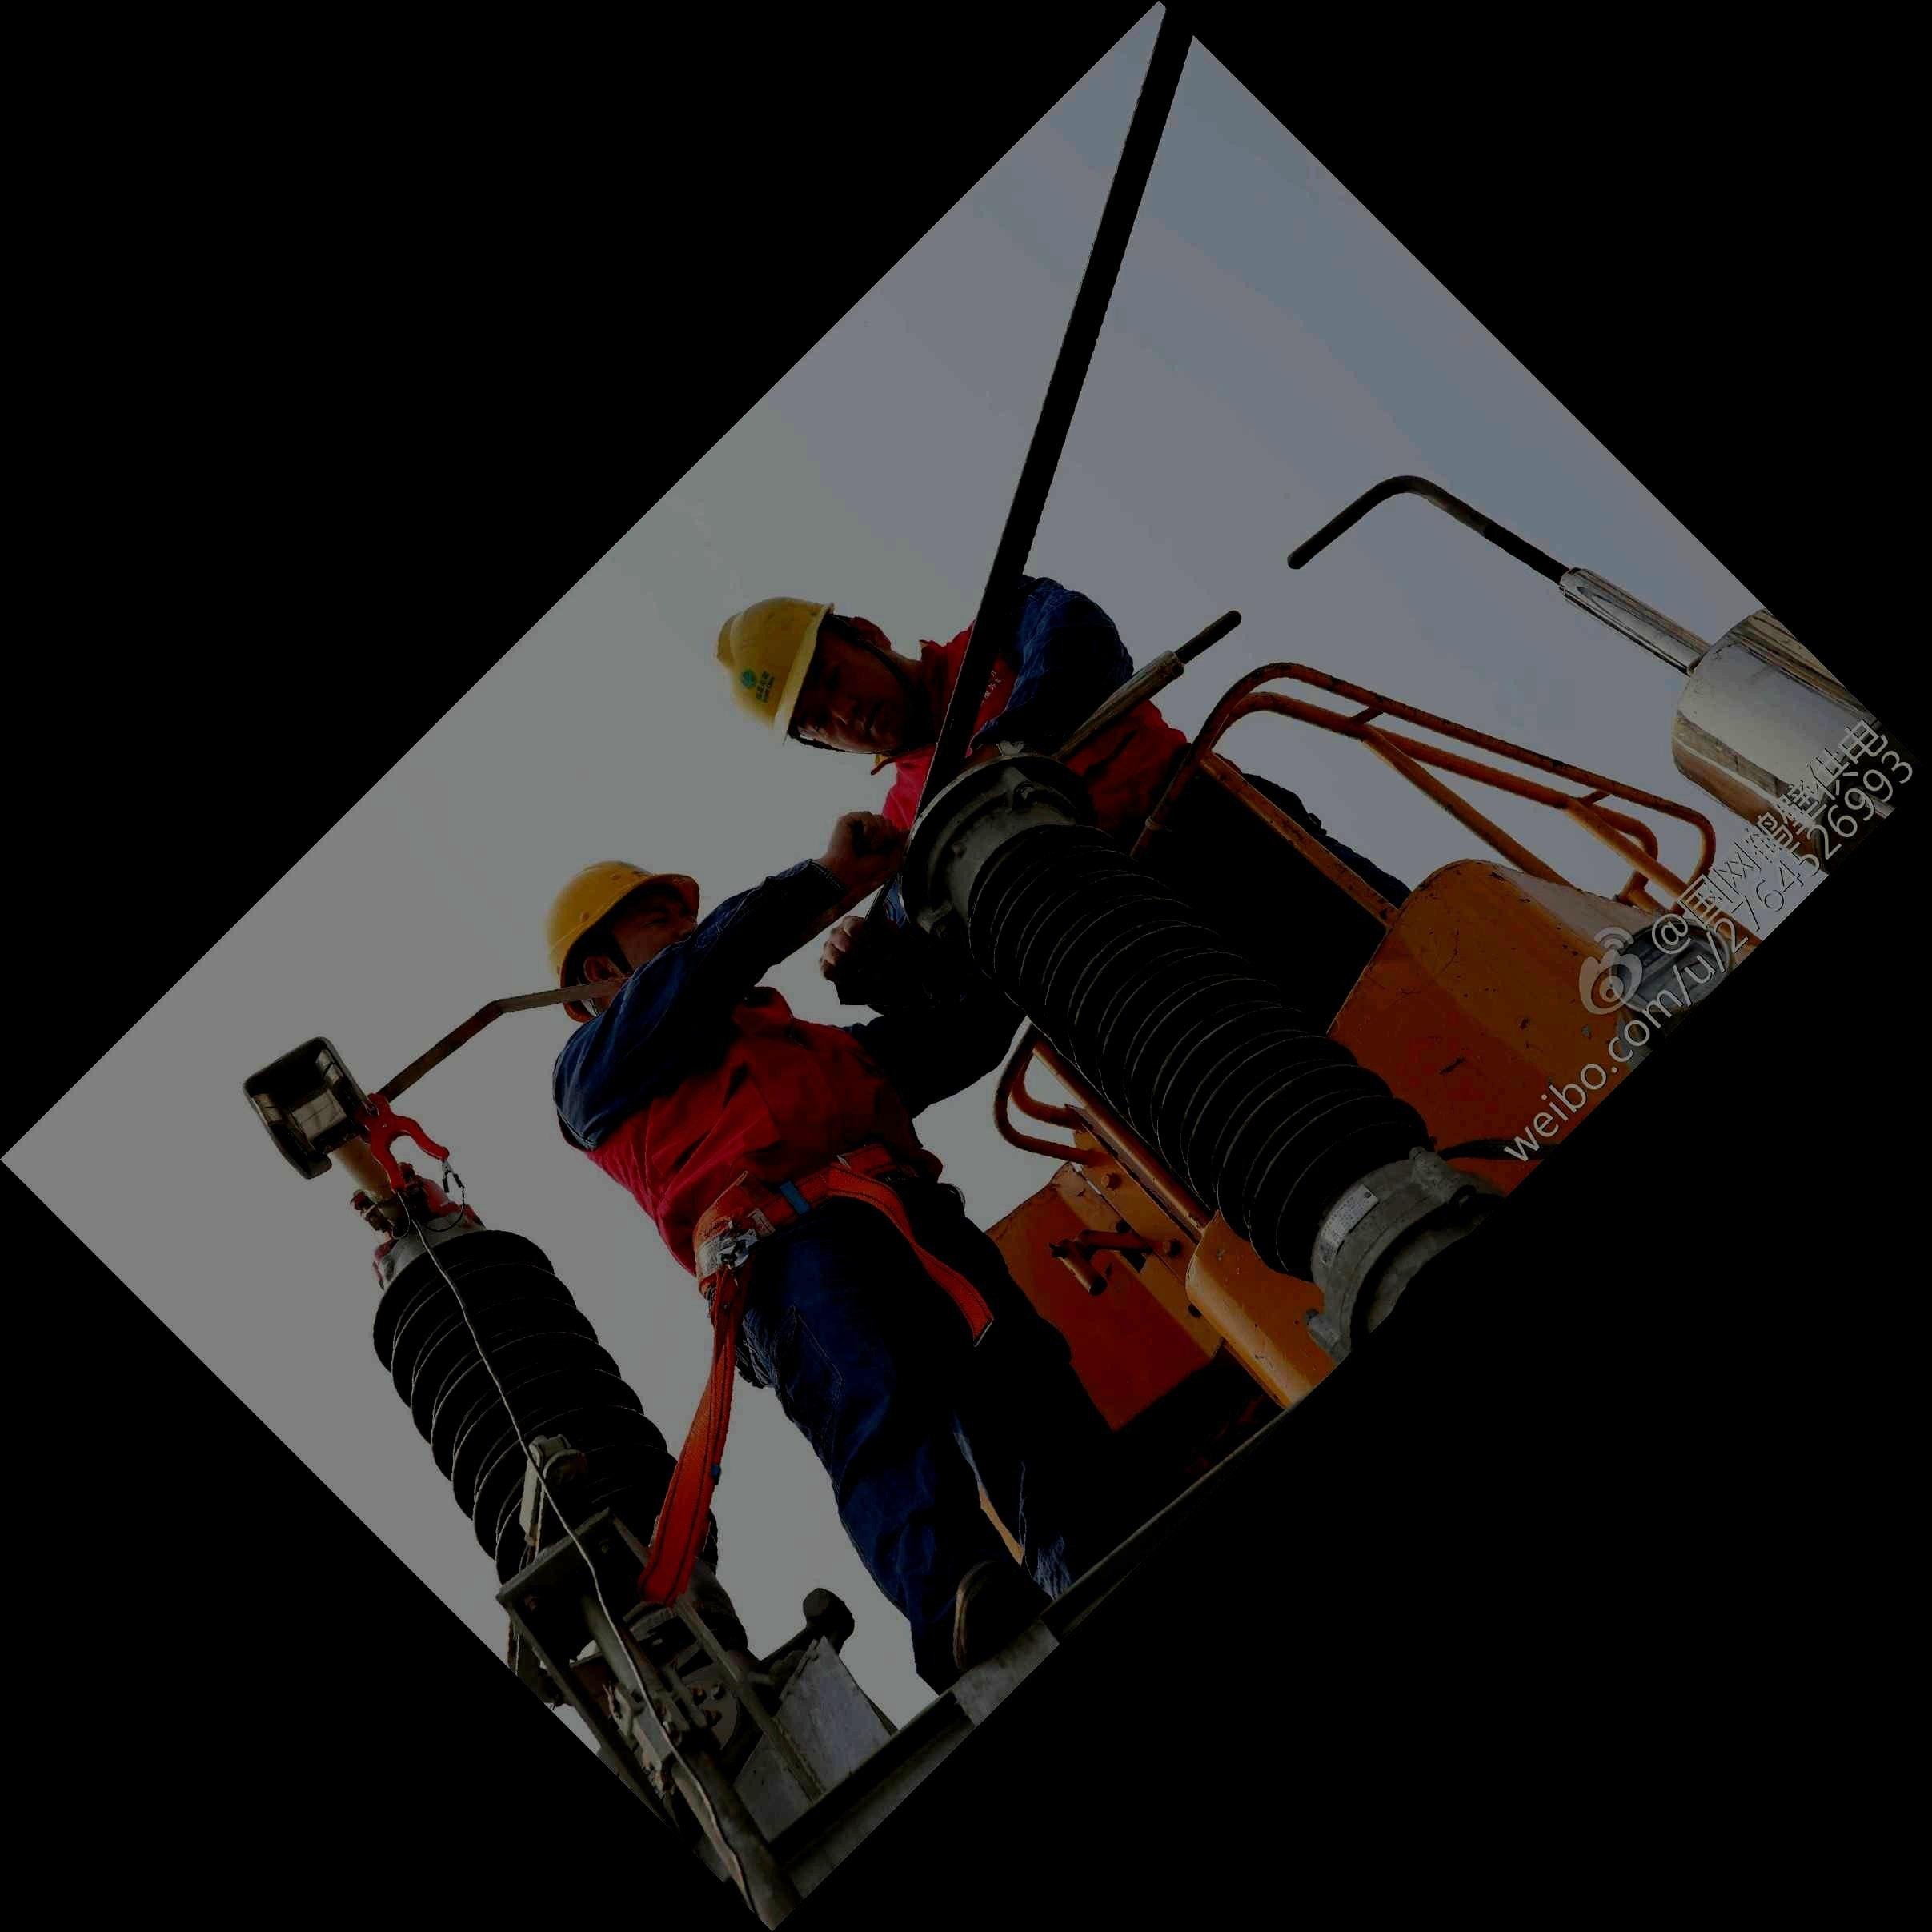helmet: (711, 596, 916, 755), (543, 858, 701, 1024)
